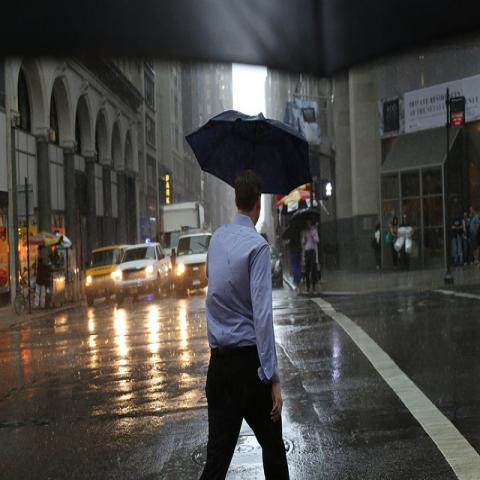car: (113, 243, 173, 307), (84, 243, 127, 305), (174, 232, 213, 292), (269, 243, 284, 286)
truck: (172, 233, 214, 296), (161, 200, 204, 255)
